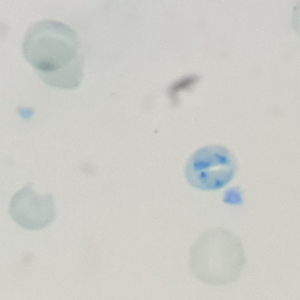aggregate reticulocyte: (183, 142, 239, 193)
erythrocyte: (187, 224, 249, 287), (19, 19, 82, 73), (6, 180, 58, 233), (34, 49, 89, 92)
